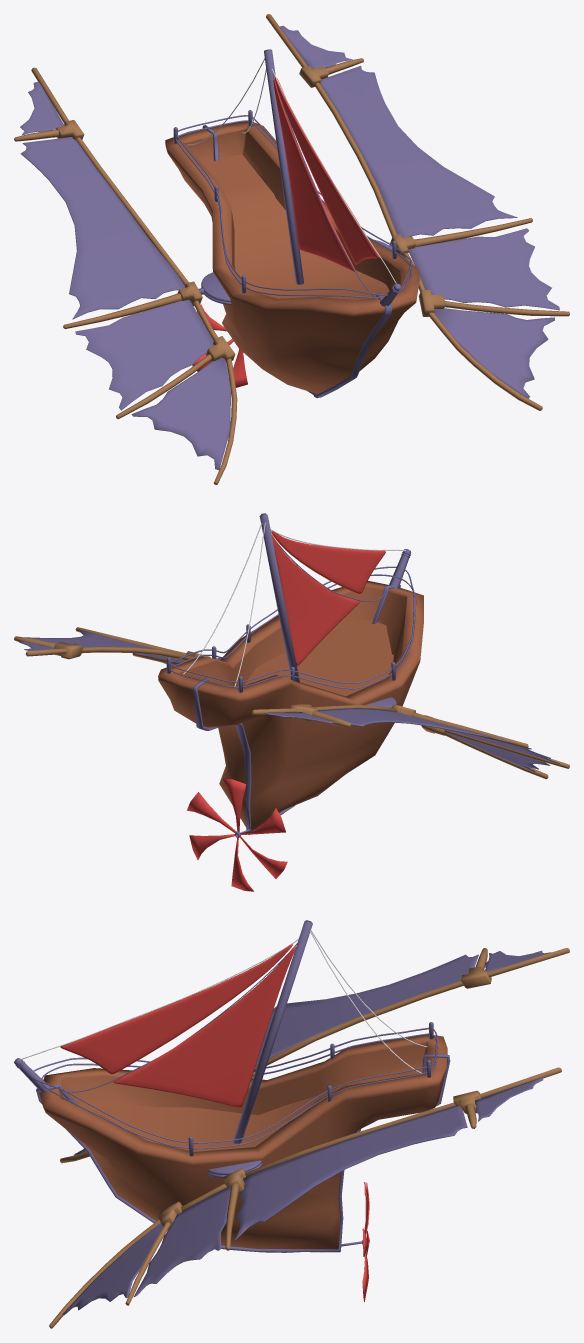
Rendered from uáan gemi.fbx.
The picture shows the model from 3 angles, top to bottom: view 1: azimuth 30°, elevation 25°; view 2: azimuth 150°, elevation 25°; view 3: azimuth 270°, elevation 25°; orthographic projection. The views are drawn at different scales.
Visible parts, largest first — view 1: Circle, Plane.016, Plane.014, Plane.013, Plane.015, Cylinder, Plane.007, BezierCurve.005, BezierCurve.004, Plane.006, Circle.001; view 2: Plane.016, Circle, Plane.014, Plane.013, Plane.006, Plane.015, Cylinder, Plane.007, BezierCurve.005, BezierCurve.004, BezierCurve; view 3: Plane.016, Circle, Plane.013, Plane.015, Plane.014, Cylinder, Plane.007, BezierCurve.005, BezierCurve.004, Plane.006, BezierCurve.
Part boxes in pixels (left/top/right/bottom): Circle: left=14, top=14, right=569, bottom=484; Plane.016: left=165, top=121, right=419, bottom=393; Plane.014: left=202, top=154, right=389, bottom=300; Plane.013: left=273, top=78, right=355, bottom=271; Plane.015: left=275, top=77, right=379, bottom=264; Cylinder: left=264, top=49, right=303, bottom=284; Plane.007: left=202, top=125, right=392, bottom=397; BezierCurve.005: left=175, top=115, right=411, bottom=295; BezierCurve.004: left=175, top=120, right=411, bottom=298; Plane.006: left=192, top=304, right=247, bottom=387; Circle.001: left=201, top=239, right=392, bottom=304; Plane.016: left=158, top=581, right=423, bottom=830; Circle: left=14, top=627, right=569, bottom=779; Plane.014: left=222, top=619, right=393, bottom=696; Plane.013: left=271, top=534, right=359, bottom=665; Plane.006: left=187, top=778, right=287, bottom=891; Plane.015: left=271, top=531, right=385, bottom=593; Cylinder: left=259, top=513, right=299, bottom=682; Plane.007: left=193, top=585, right=400, bottom=835; BezierCurve.005: left=168, top=566, right=414, bottom=683; BezierCurve.004: left=168, top=574, right=416, bottom=689; BezierCurve: left=183, top=522, right=265, bottom=686; Plane.016: left=39, top=1035, right=447, bottom=1249; Circle: left=49, top=948, right=569, bottom=1328; Plane.013: left=113, top=947, right=295, bottom=1107; Plane.015: left=60, top=944, right=292, bottom=1074; Plane.014: left=85, top=1069, right=422, bottom=1151; Cylinder: left=233, top=920, right=312, bottom=1143; Plane.007: left=36, top=1054, right=450, bottom=1252; BezierCurve.005: left=30, top=1027, right=437, bottom=1143; BezierCurve.004: left=41, top=1033, right=437, bottom=1149; Plane.006: left=362, top=1182, right=369, bottom=1301; BezierCurve: left=310, top=930, right=427, bottom=1073.
Size of the model in its own units: 815 by 602 by 800.
